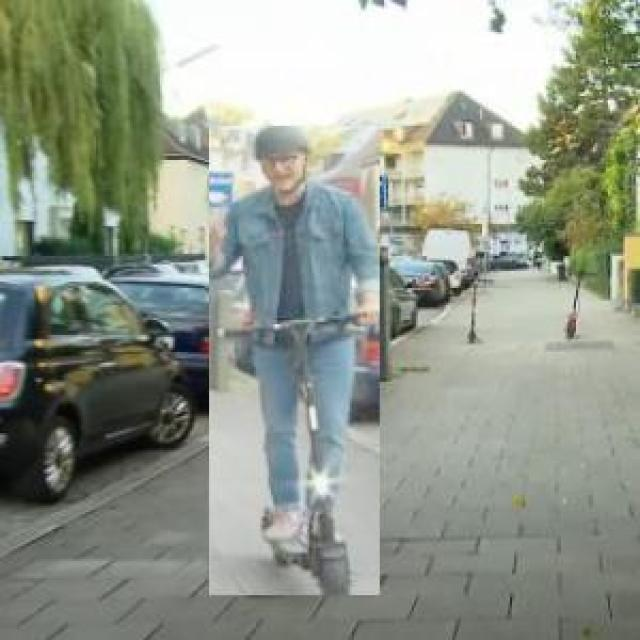pedestrian: (209, 127, 380, 596)
